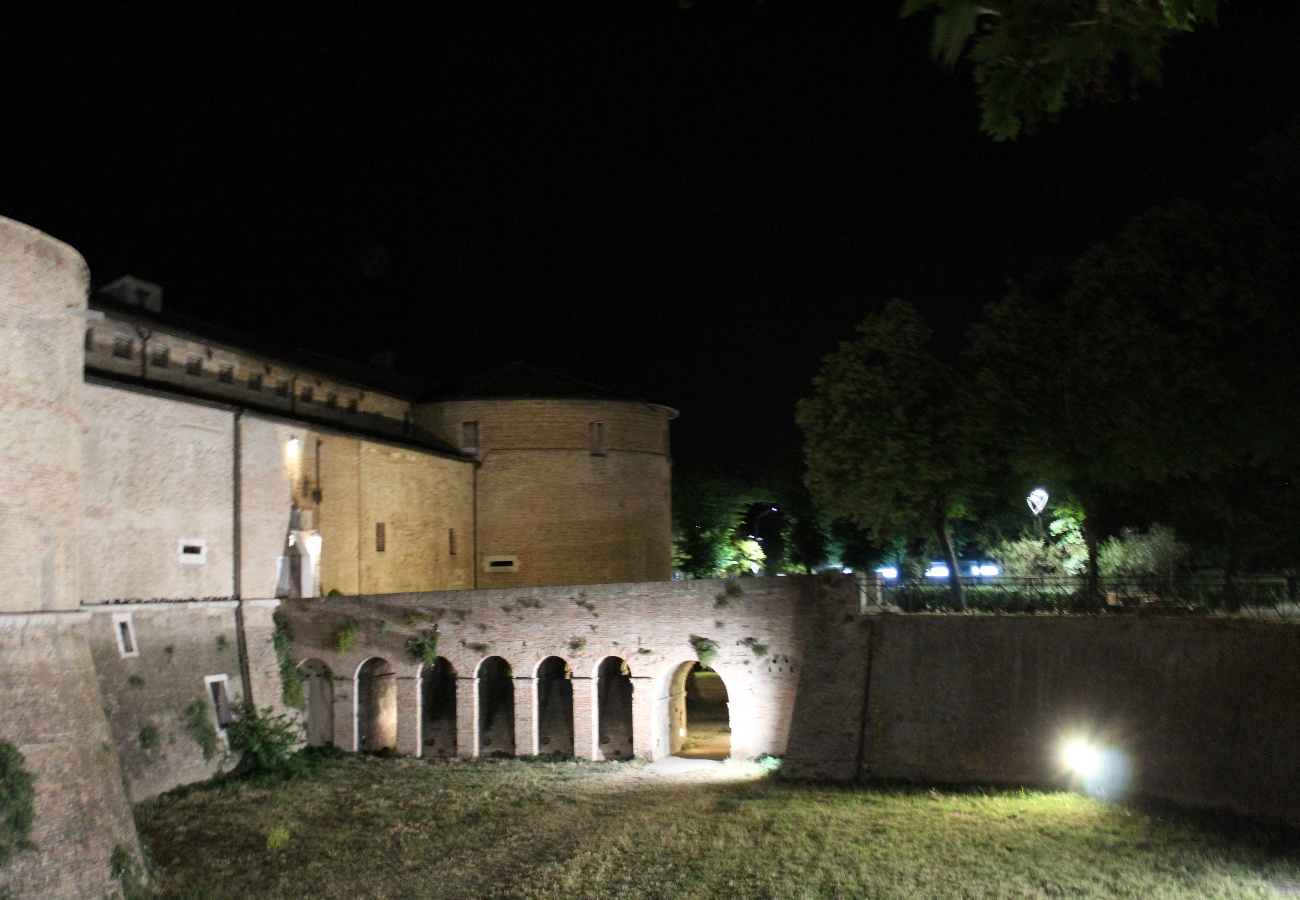Rocca Costanza: (1, 215, 680, 895)
